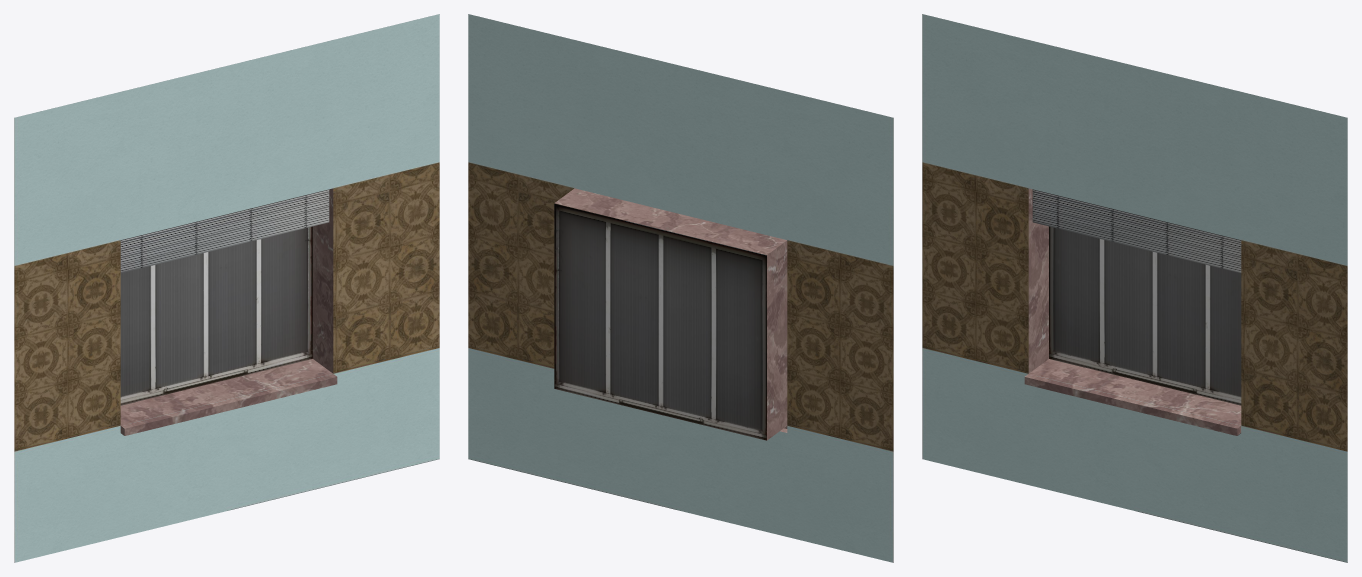
Rendered from Building B Window A2.fbx.
3 views of the same model, side by side, from view 1: azimuth 30°, elevation 25°; view 2: azimuth 150°, elevation 25°; view 3: azimuth 330°, elevation 25° (orthographic).
Parts seen in each view (by area): view 1: Building B Window A2 (2, Baked); view 2: Building B Window A2 (2, Baked); view 3: Building B Window A2 (2, Baked).
Part boxes in pixels (bbox=[...]): Building B Window A2 (2, Baked): bbox=[14, 14, 439, 562]; Building B Window A2 (2, Baked): bbox=[468, 14, 893, 562]; Building B Window A2 (2, Baked): bbox=[922, 14, 1347, 562].
Bounding box in the file's own units: 300 × 300 × 30.
